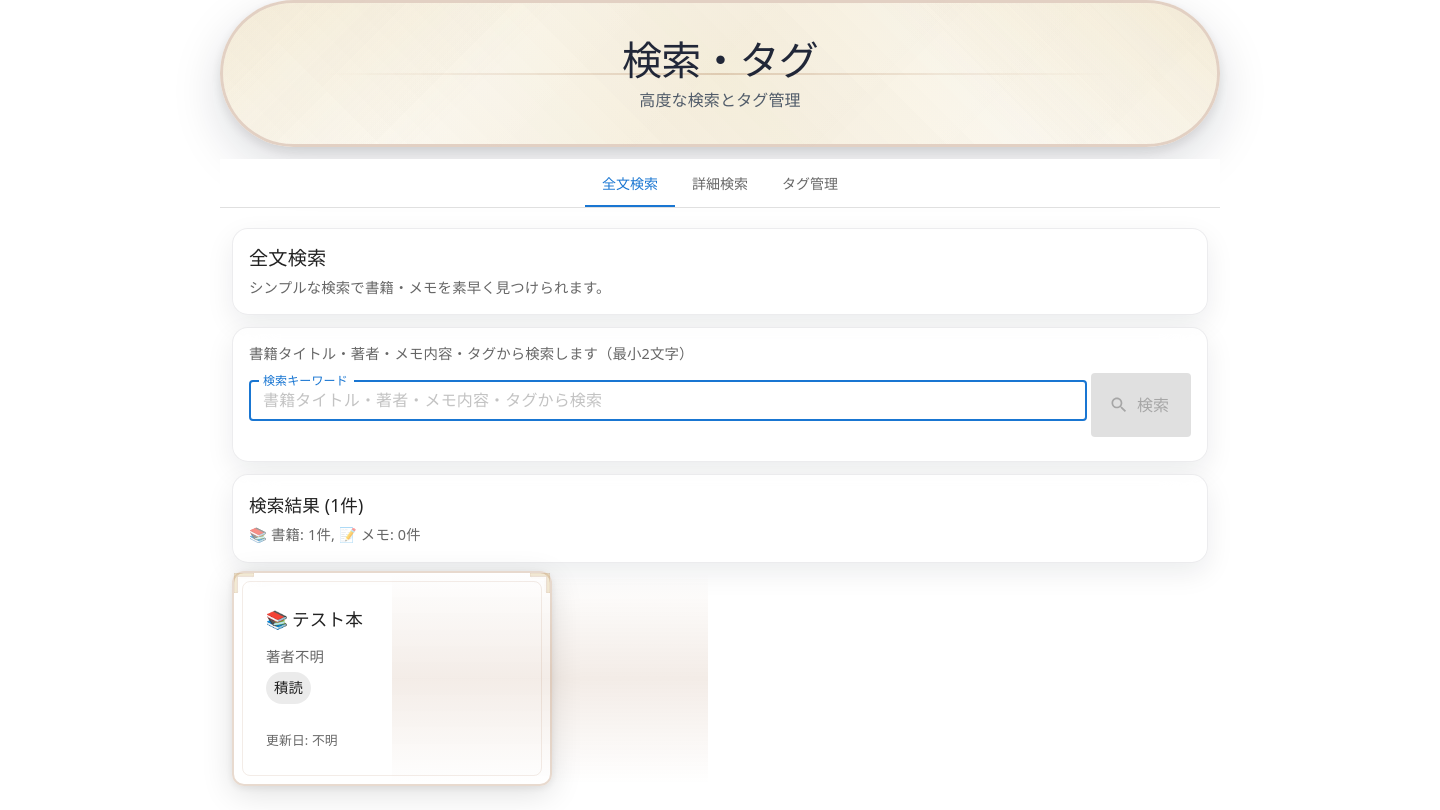
TagSearch › 検索結果クリア機能 › 検索結果がある場合にクリアボタンが表示される
Note: 詳細検索タブに切り替え
Click the tab with test id "advanced-search-tab": click(720, 183) [675,159,765,207]
(page scrolled)
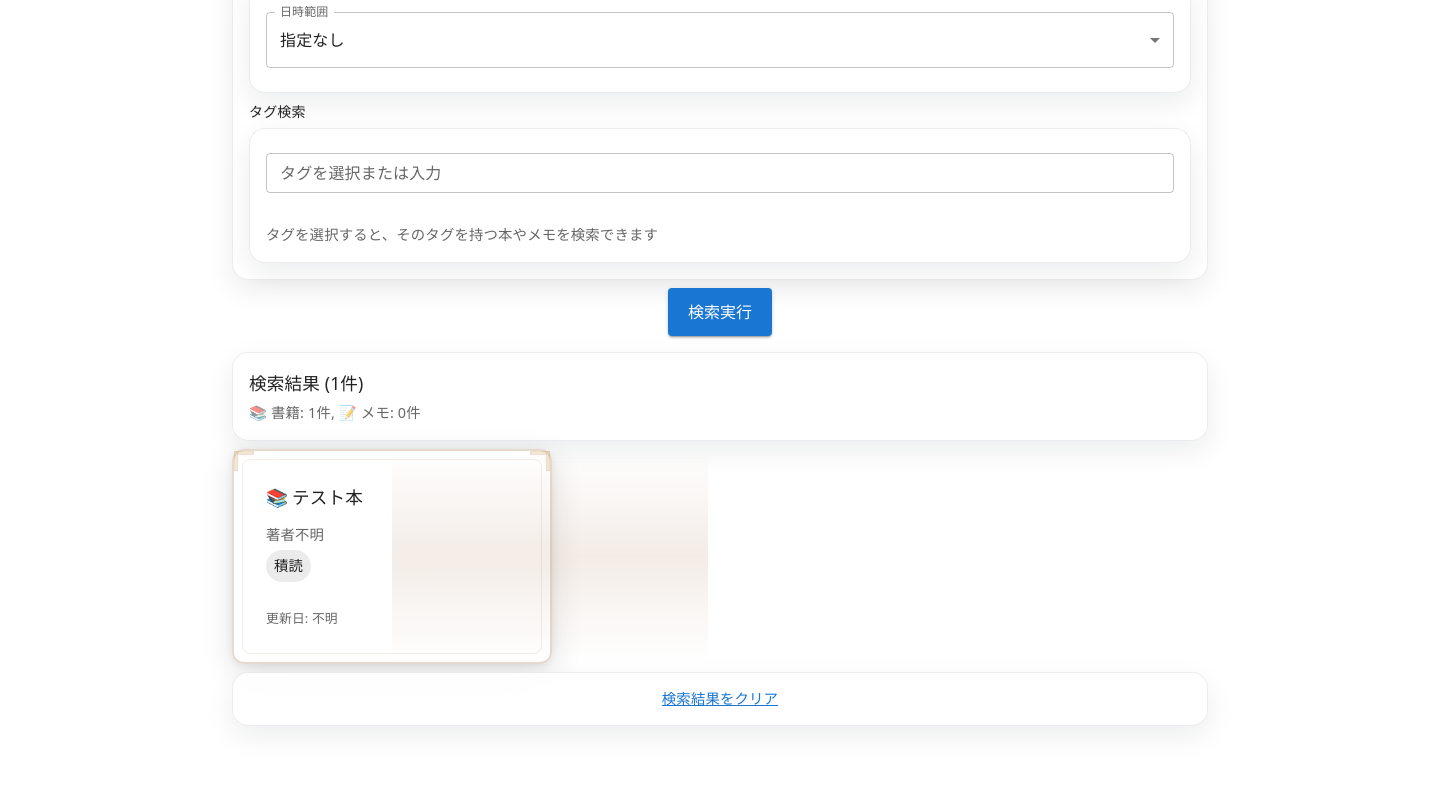
Expected: the text "検索結果をクリア" is shown, [662,689,778,708]
